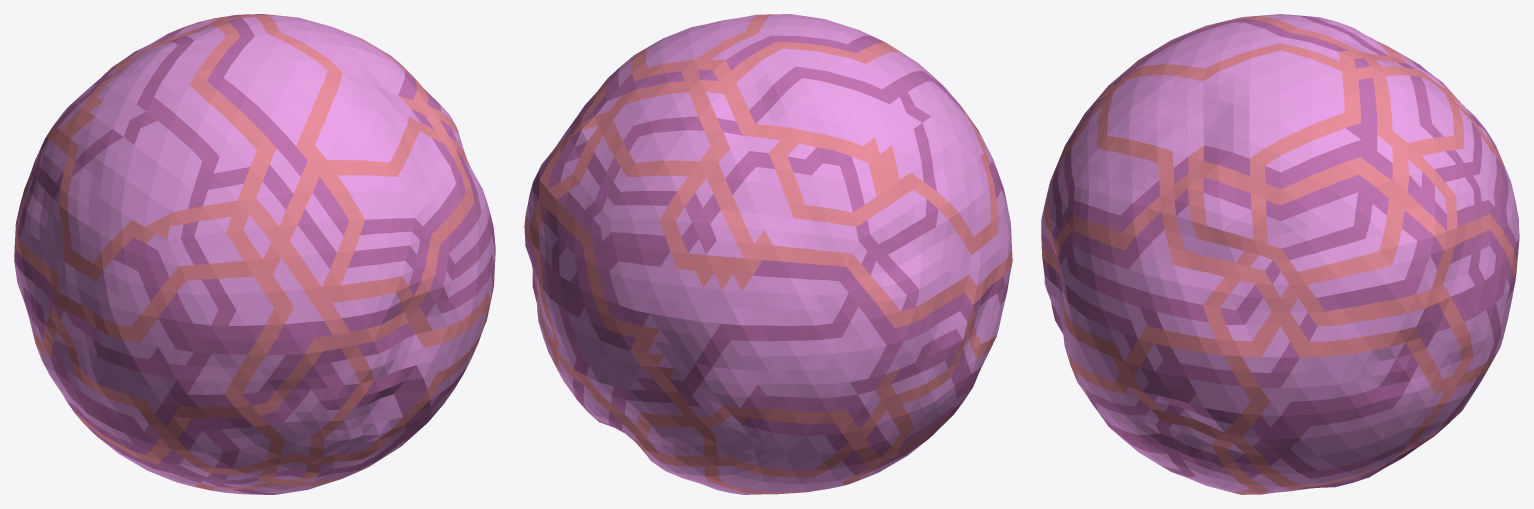
The model's file is Planet4.fbx.
The picture shows the model from 3 angles, left to right: view 1: azimuth 30°, elevation 25°; view 2: azimuth 150°, elevation 25°; view 3: azimuth 270°, elevation 25°; orthographic projection.
Visible parts, largest first — view 1: Planet4; view 2: Planet4; view 3: Planet4.
Part boxes in pixels (<box>): Planet4: <box>14,14,495,494</box>; Planet4: <box>524,14,1012,494</box>; Planet4: <box>1041,14,1519,494</box>.
Bounding box in the file's own units: 196 × 199 × 197.
